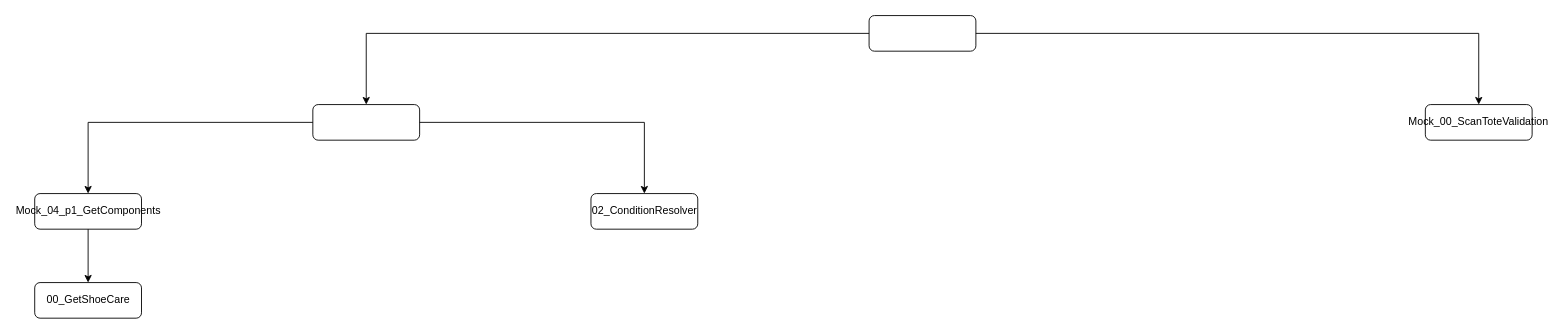
Image size: 1564x334. Some labels were removed from this diagram. Here are the shapes that lost their labels. From the top down, the centre of each, then its label:
At point (922, 33): "Mock_02_p1_GetTote".
At point (366, 122): "Mock_03_p1_GetFlow".
